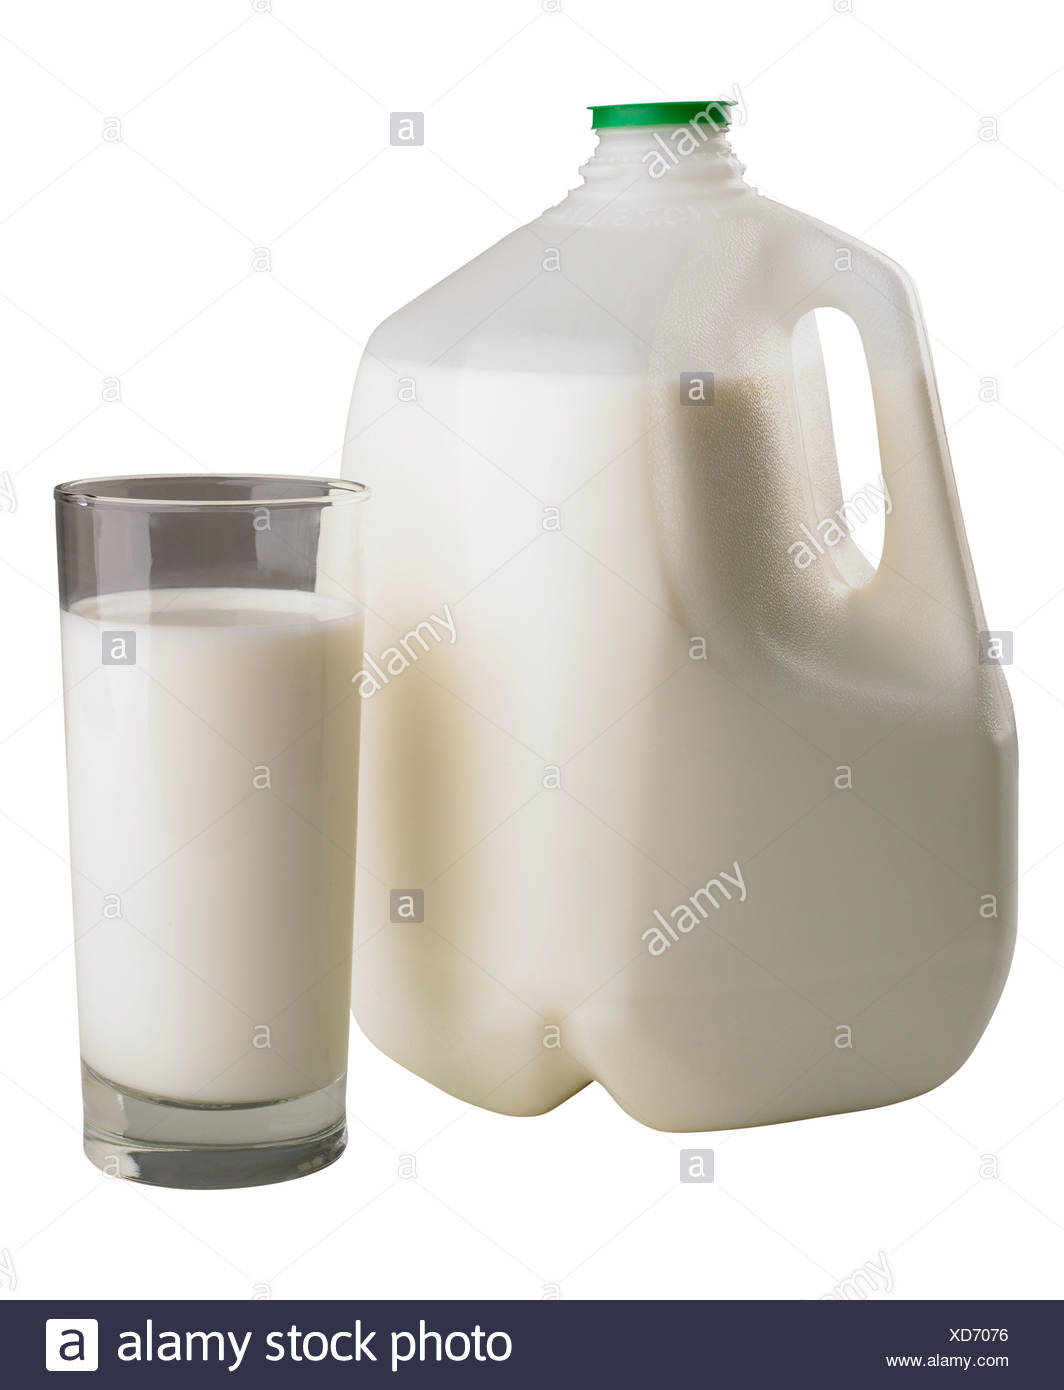glass of milk: (54, 480, 361, 1167)
